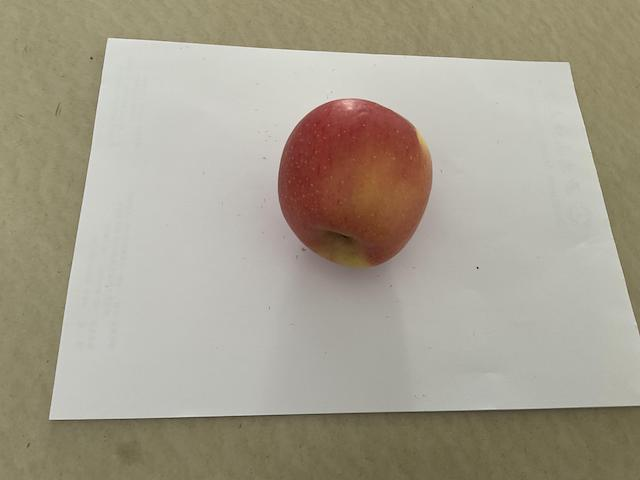apple: (275, 90, 445, 283)
